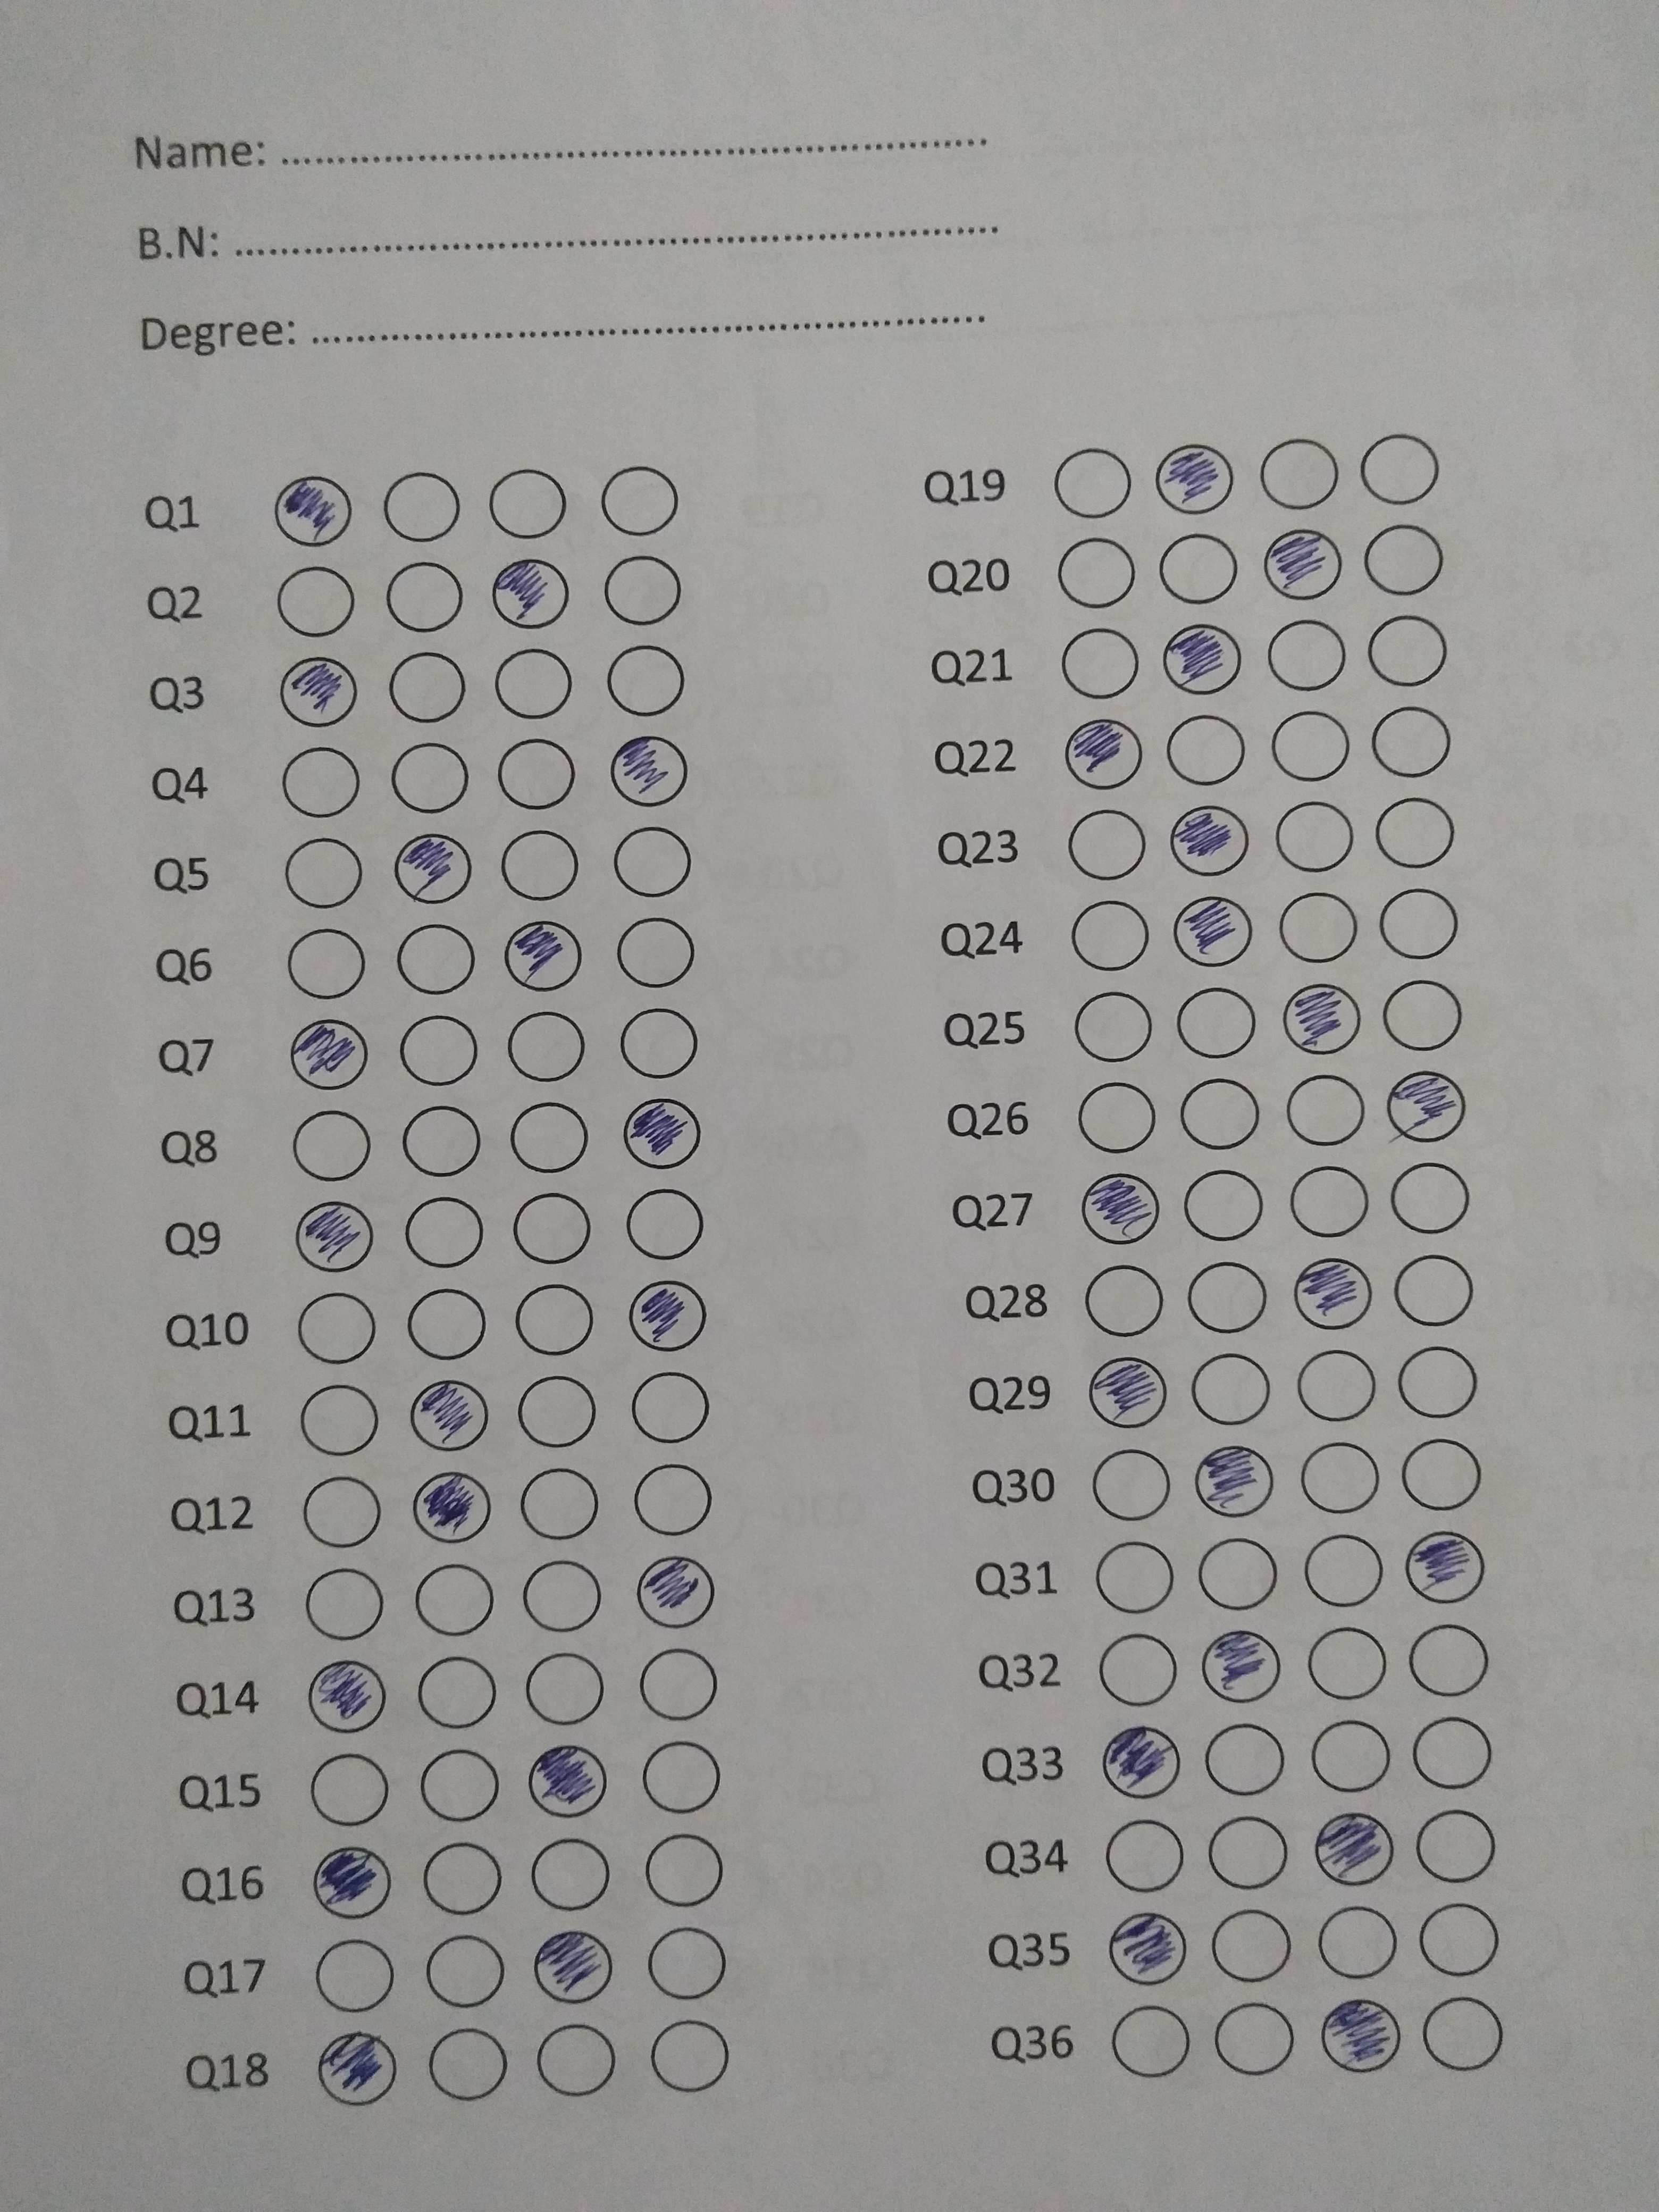not-c: (594, 458, 685, 542), (629, 1460, 720, 1543), (484, 462, 573, 545), (411, 1559, 500, 1642), (1253, 432, 1342, 516), (1356, 430, 1445, 514), (1368, 697, 1457, 780), (1159, 709, 1248, 792), (1370, 791, 1459, 874), (1267, 794, 1356, 878), (1068, 895, 1157, 979), (1378, 975, 1467, 1059), (1072, 982, 1161, 1066), (1173, 1071, 1262, 1155), (1051, 531, 1140, 615), (1154, 529, 1243, 613), (1056, 622, 1145, 705), (295, 1379, 385, 1461), (620, 1184, 711, 1266), (1053, 442, 1140, 526), (1361, 517, 1448, 601), (1065, 803, 1152, 887), (1173, 982, 1260, 1066), (1281, 1068, 1368, 1151), (1262, 613, 1349, 697), (615, 1001, 704, 1083), (401, 1284, 490, 1366), (1276, 888, 1364, 970), (1364, 610, 1453, 691), (1263, 705, 1352, 787), (376, 467, 467, 547), (392, 920, 483, 1000), (491, 644, 579, 726), (514, 1371, 601, 1453), (516, 1465, 603, 1547), (1373, 881, 1460, 963), (505, 1097, 594, 1177), (295, 1287, 380, 1369), (281, 923, 368, 1003), (504, 1005, 591, 1085), (509, 1190, 596, 1270), (627, 1367, 714, 1447), (301, 1566, 389, 1646), (277, 742, 366, 820), (274, 559, 357, 641), (300, 1470, 383, 1552), (521, 1555, 605, 1637), (289, 1104, 375, 1184), (401, 1193, 486, 1273), (396, 1012, 483, 1090), (383, 556, 467, 636), (498, 826, 582, 906), (612, 913, 697, 991), (387, 648, 469, 728), (281, 834, 364, 913), (399, 1101, 483, 1179), (512, 1280, 596, 1359), (1307, 1717, 1391, 1796), (420, 1747, 504, 1825), (1089, 1444, 1173, 1522), (1295, 1346, 1378, 1425), (1305, 1625, 1389, 1703), (608, 824, 694, 900), (599, 552, 687, 627), (521, 1651, 608, 1726), (495, 733, 577, 812), (389, 738, 472, 815), (640, 1740, 723, 1817), (1213, 2001, 1297, 2078), (1202, 1721, 1286, 1797), (1108, 2001, 1192, 2078), (1413, 1808, 1497, 1885), (1206, 1813, 1290, 1890), (1417, 1900, 1500, 1977), (1316, 1904, 1399, 1980), (1209, 1907, 1293, 1984), (1420, 1996, 1504, 2073), (640, 1646, 723, 1723), (645, 1831, 728, 1907), (645, 1925, 728, 2001), (535, 2022, 619, 2099), (315, 1937, 399, 2013), (423, 1932, 507, 2008), (415, 1653, 498, 1730), (425, 2027, 509, 2104), (532, 1836, 615, 1912), (308, 1752, 392, 1829), (418, 1843, 502, 1919), (1075, 1078, 1159, 1155), (1389, 1162, 1473, 1238), (1094, 1540, 1178, 1616), (1408, 1622, 1492, 1698), (1182, 1165, 1265, 1242), (1288, 1165, 1371, 1242), (1392, 1254, 1476, 1331), (1185, 1261, 1269, 1338), (1084, 1263, 1168, 1339), (1396, 1345, 1480, 1421), (1188, 1352, 1272, 1428), (1297, 1439, 1380, 1515), (1195, 1536, 1279, 1613), (1398, 1437, 1481, 1514), (1096, 1632, 1180, 1709), (1103, 1818, 1185, 1895), (650, 2019, 732, 2095), (1412, 1716, 1493, 1792), (1303, 1533, 1385, 1609), (605, 643, 688, 718)
taken-c: (1314, 1996, 1405, 2074), (528, 1738, 610, 1822), (390, 827, 476, 907), (1063, 714, 1147, 794), (605, 733, 690, 812), (1197, 1627, 1283, 1705), (1291, 1254, 1377, 1332), (1075, 1170, 1161, 1249), (1152, 439, 1237, 517), (500, 918, 587, 995), (1281, 981, 1364, 1059), (317, 2029, 403, 2106), (1105, 1911, 1190, 1987), (1169, 895, 1256, 970), (626, 1277, 708, 1355), (410, 1376, 491, 1454), (312, 1844, 396, 1921), (1312, 1811, 1396, 1888), (272, 475, 357, 550), (293, 1200, 378, 1275), (1161, 622, 1246, 697), (406, 1470, 493, 1543), (305, 1658, 387, 1735), (1100, 1723, 1182, 1799), (1405, 1529, 1486, 1606), (1087, 1355, 1171, 1430), (1384, 1068, 1467, 1143), (1166, 803, 1249, 878), (275, 655, 361, 728), (286, 1017, 371, 1090), (622, 1097, 708, 1170), (633, 1555, 718, 1627), (535, 1928, 615, 2003), (491, 559, 573, 632), (1263, 528, 1345, 601), (1195, 1446, 1276, 1519)
